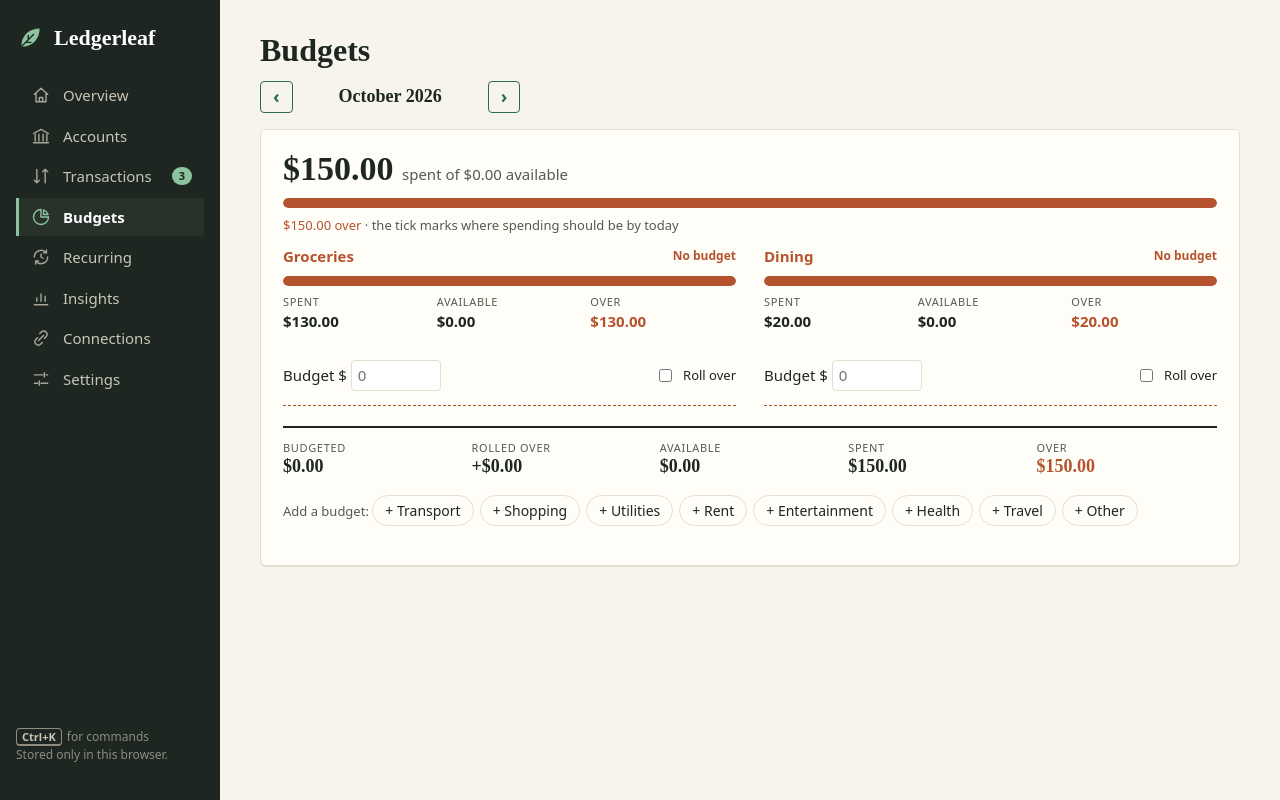
Test: budget editing › lists spending without a budget and adds a budget from the chips
Check: the text "October 2026" is shown, box [338,86,442,106]
Check: the text "No budget" in the row of "Groceries" is shown, box [673,247,736,264]
Click the button "+ Shopping". click: (530, 511)
box: [480,495,580,526]
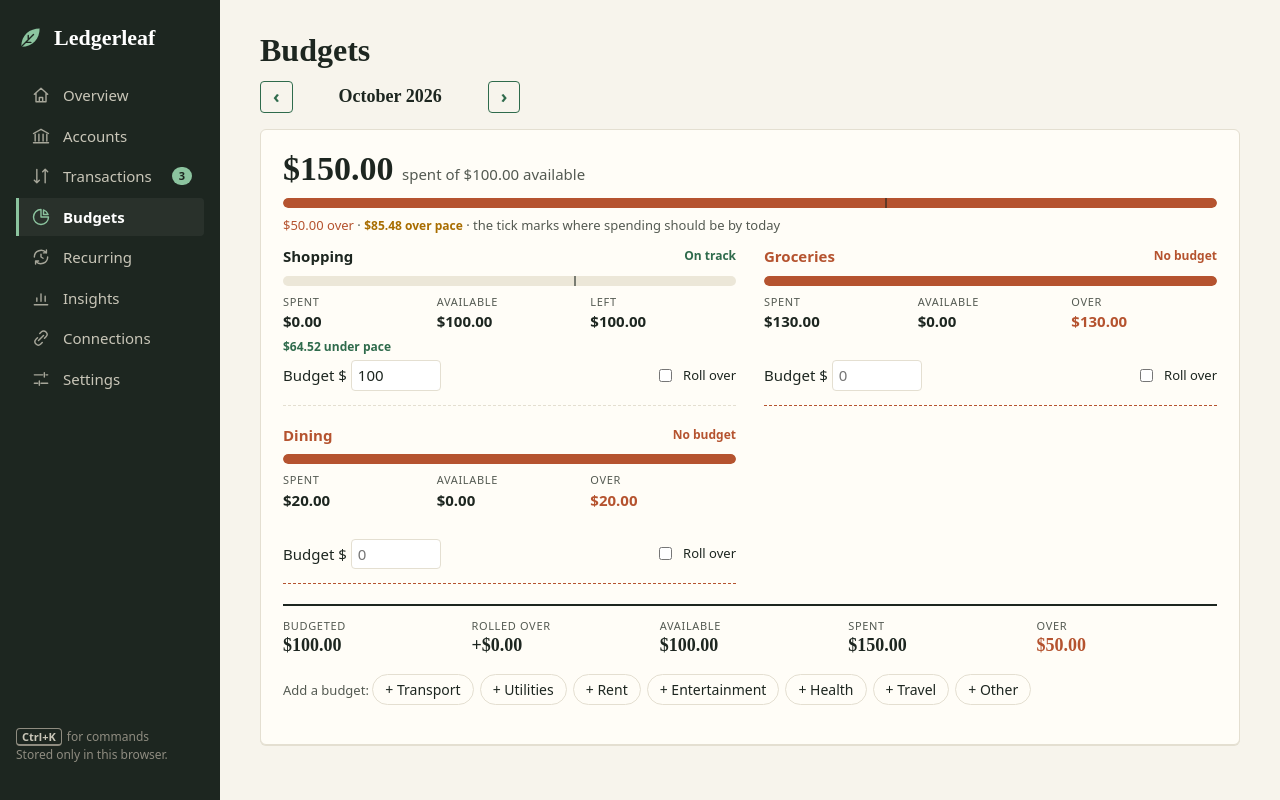
Check: the number field labelled "Budget $" below "$64.52 under pace" holds "100", box [351,360,441,391]
Check: the text "On track" is shown, box [684,247,736,265]
Check: the button "+ Shopping" is gone
